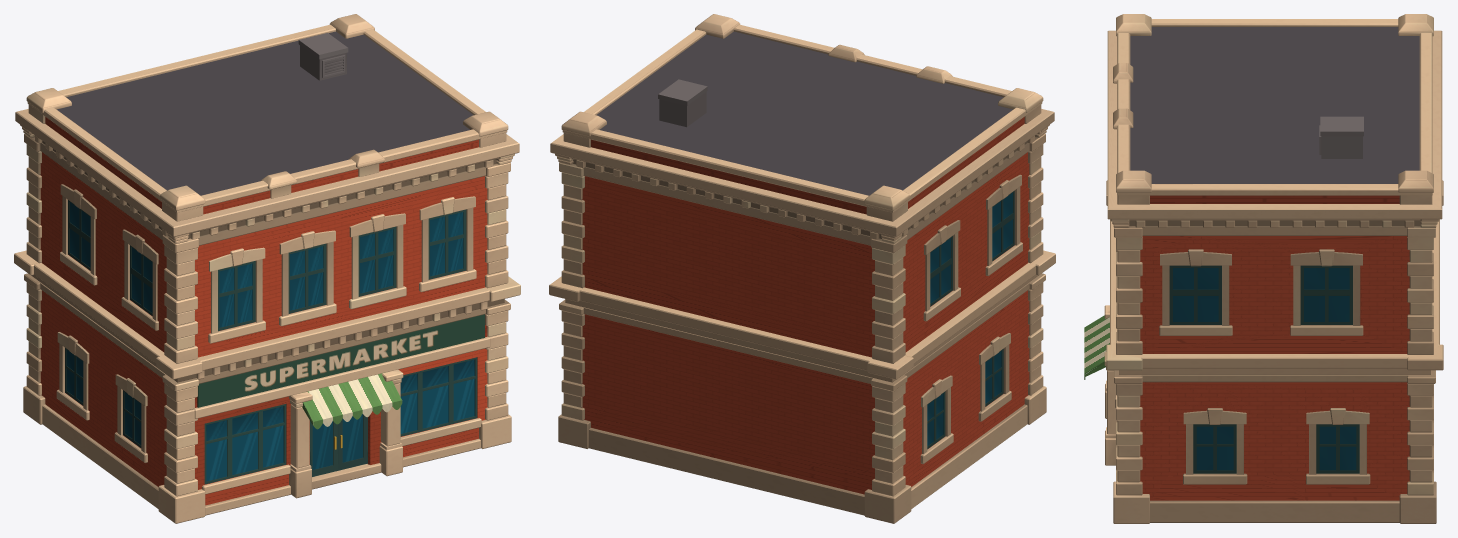
The model's file is houdini_supermarket.glb.
The picture shows the model from 3 angles, left to right: view 1: azimuth 30°, elevation 25°; view 2: azimuth 150°, elevation 25°; view 3: azimuth 270°, elevation 25°; orthographic projection. The views are drawn at different scales.
Parts seen in each view (by area): view 1: LOD0; view 2: LOD0; view 3: LOD0.
Part boxes in pixels (x1,y1,x2,y2): LOD0: (14,14,520,523); LOD0: (549,14,1055,523); LOD0: (1084,14,1443,523).
Size of what is drawn, in the model's own units: 13.29 by 12.36 by 11.23.
Materials: 5 (5 with a texture image).
